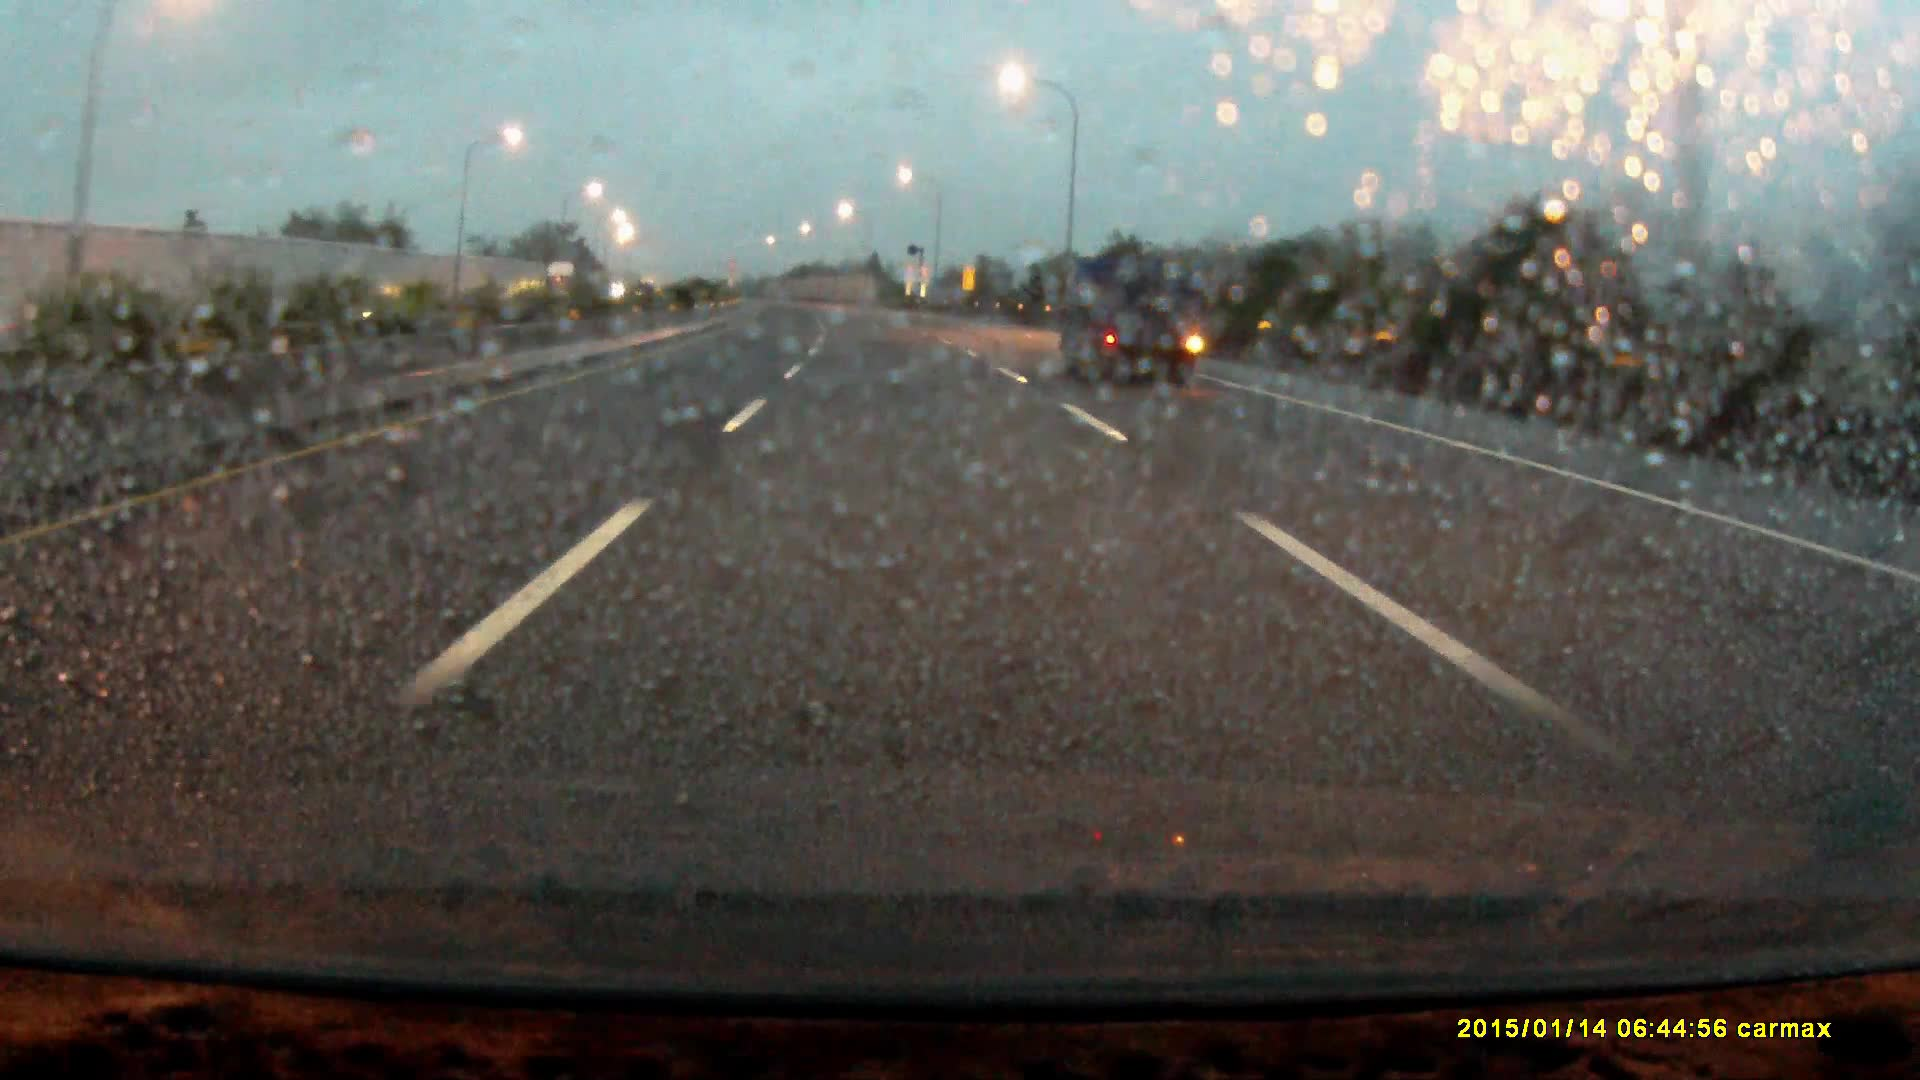vehicle: (1058, 255, 1200, 396), (546, 260, 585, 316)
